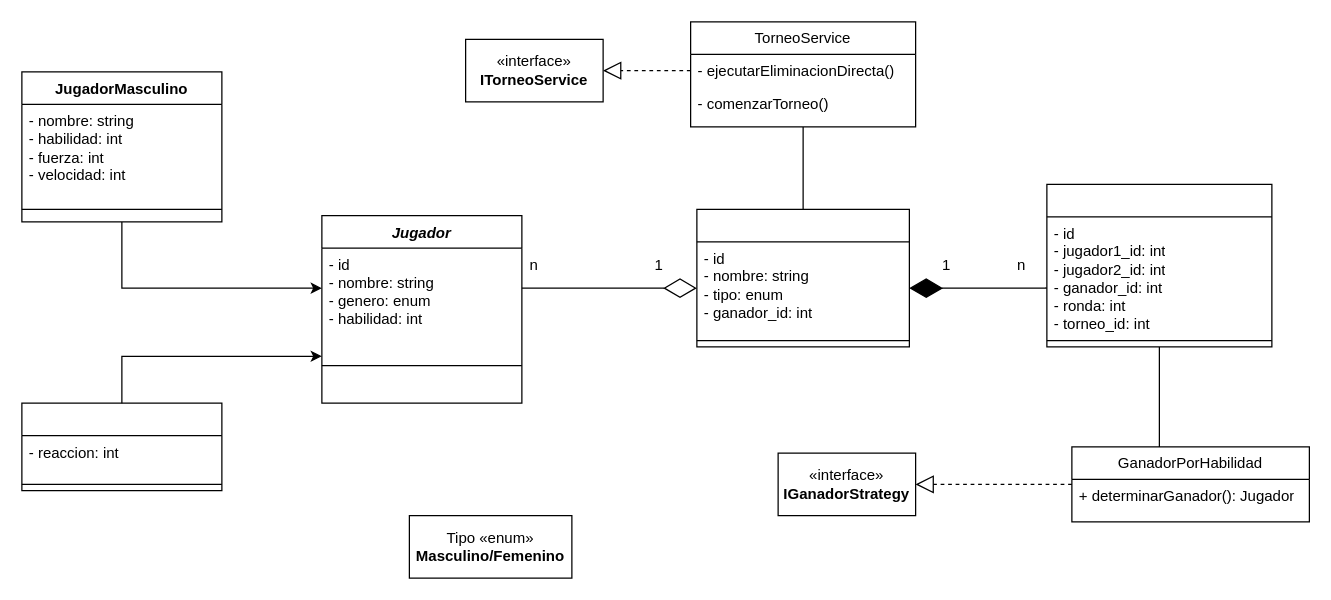
This 1331x600 diagram has some shape labels left out. The box of each missing label's shape, as (x1, y1, x2, y2) in pixels:
JugadorFemenino: (21, 402, 222, 491)
Partida: (1046, 183, 1272, 347)
Torneo: (696, 208, 909, 347)
